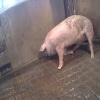heo: (38, 13, 97, 69)
